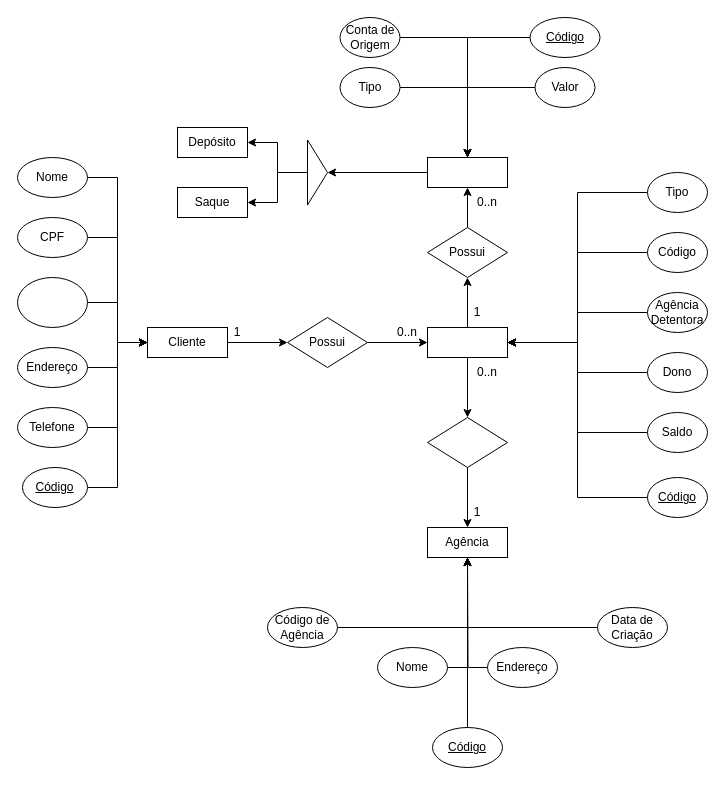
This 725x785 diagram has some shape labels left out. Here are the shapes that lost their labels. From the top down, the centre of each, then its label:
At [467,172]: "Transação".
At [52,302]: "Data de nascimento".
At [467,342]: "Conta".
At [467,442]: "Pertence".
